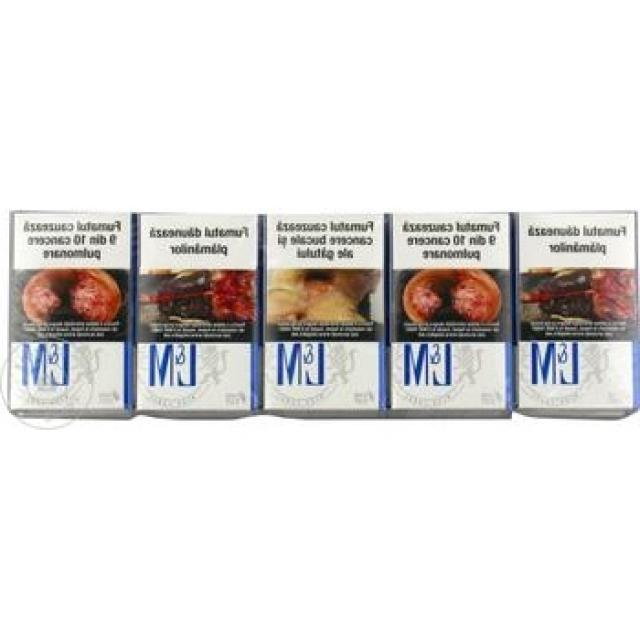lm: (7, 209, 132, 421), (388, 212, 517, 416), (132, 209, 258, 416), (263, 209, 388, 415), (517, 207, 640, 413)
